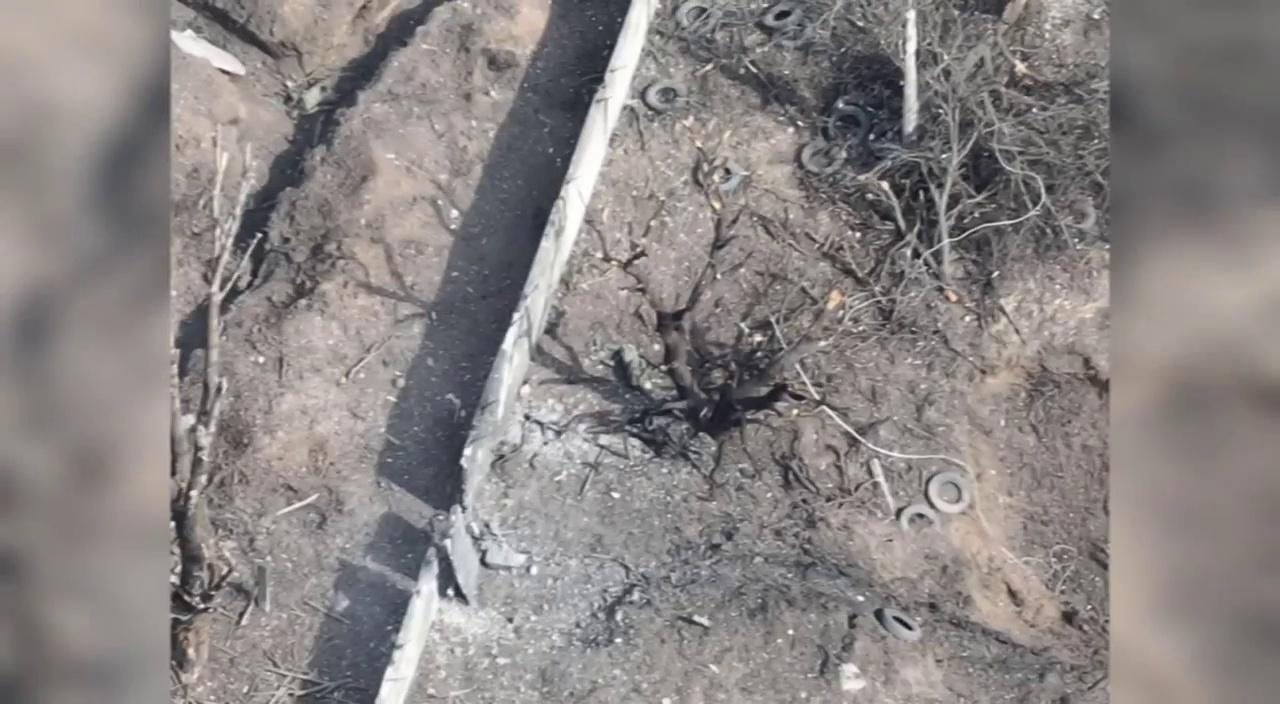person: (593, 338, 665, 393)
